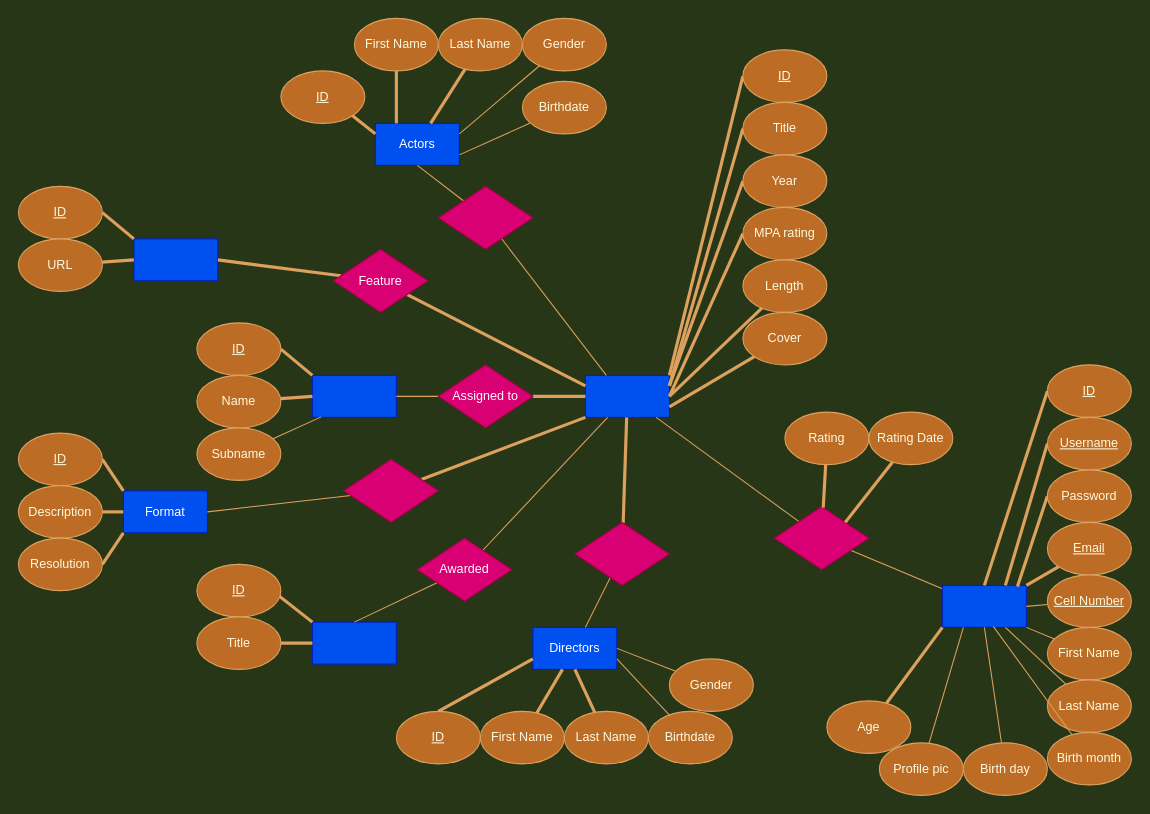
This 1150x814 diagram has some shape labels left out. Here are the shapes that lost their labels. From the top down, the centre of each, then its label:
the point at 485,217: Act in
the point at 175,259: Trailers
the point at 353,395: Genres
the point at 626,395: Movies
the point at 390,490: is formatted
the point at 621,553: Directs
the point at 821,538: Rated
the point at 983,605: Users
the point at 353,642: Awards
